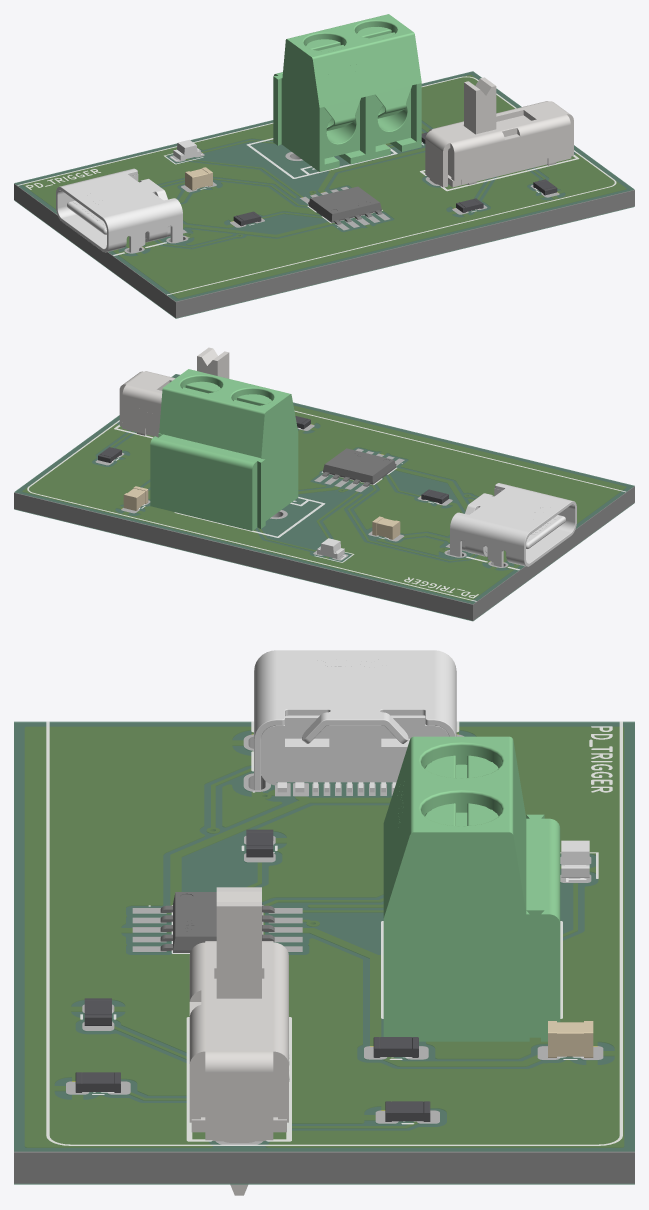
Rendered from board.glb.
The picture shows the model from 3 angles, top to bottom: view 1: azimuth 30°, elevation 25°; view 2: azimuth 150°, elevation 25°; view 3: azimuth 270°, elevation 25°; orthographic projection. The views are drawn at different scales.
Visible parts, largest first — view 1: =>[0:1:1:13], =>[0:1:1:9], J2, =>[0:1:1:15], S1, J1, =>[0:1:1:12], U1, =>[0:1:1:10], =>[0:1:1:14], C1; view 2: =>[0:1:1:13], =>[0:1:1:9], J2, =>[0:1:1:15], J1, S1, =>[0:1:1:12], U1, =>[0:1:1:10], =>[0:1:1:14], C1, C2 (+1 smaller); view 3: =>[0:1:1:13], =>[0:1:1:9], J2, =>[0:1:1:15], J1, S1, =>[0:1:1:12], =>[0:1:1:10], U1, C2, =>[0:1:1:14], LED1 (+5 smaller).
Part boxes in pixels (x1,y1,x2,y2): =>[0:1:1:13]: [14, 71, 634, 301]; =>[0:1:1:9]: [23, 75, 625, 297]; J2: [273, 14, 421, 171]; =>[0:1:1:15]: [14, 72, 634, 318]; S1: [425, 77, 573, 187]; J1: [56, 168, 182, 252]; =>[0:1:1:12]: [17, 76, 616, 295]; U1: [308, 186, 382, 224]; =>[0:1:1:10]: [124, 152, 559, 253]; =>[0:1:1:14]: [14, 200, 634, 318]; C1: [185, 167, 212, 190]; =>[0:1:1:13]: [14, 374, 634, 604]; =>[0:1:1:9]: [23, 406, 625, 600]; J2: [150, 369, 298, 530]; =>[0:1:1:15]: [14, 375, 634, 620]; J1: [449, 483, 576, 566]; S1: [119, 347, 229, 437]; =>[0:1:1:12]: [27, 410, 625, 601]; U1: [322, 448, 396, 486]; =>[0:1:1:10]: [95, 424, 508, 567]; =>[0:1:1:14]: [14, 503, 634, 621]; C1: [372, 516, 400, 539]; C2: [123, 486, 148, 510]; =>[0:1:1:13]: [14, 721, 634, 1151]; =>[0:1:1:9]: [25, 727, 623, 1147]; J2: [383, 736, 560, 1041]; =>[0:1:1:15]: [14, 723, 634, 1183]; J1: [254, 650, 456, 792]; S1: [189, 887, 289, 1195]; =>[0:1:1:12]: [46, 721, 622, 1145]; =>[0:1:1:10]: [66, 734, 603, 1144]; U1: [160, 892, 274, 952]; C2: [548, 1021, 593, 1057]; =>[0:1:1:14]: [14, 1183, 634, 1184]; LED1: [561, 840, 589, 877].
Size of the model in its own units: 0.0454 by 0.014 by 0.0274.
